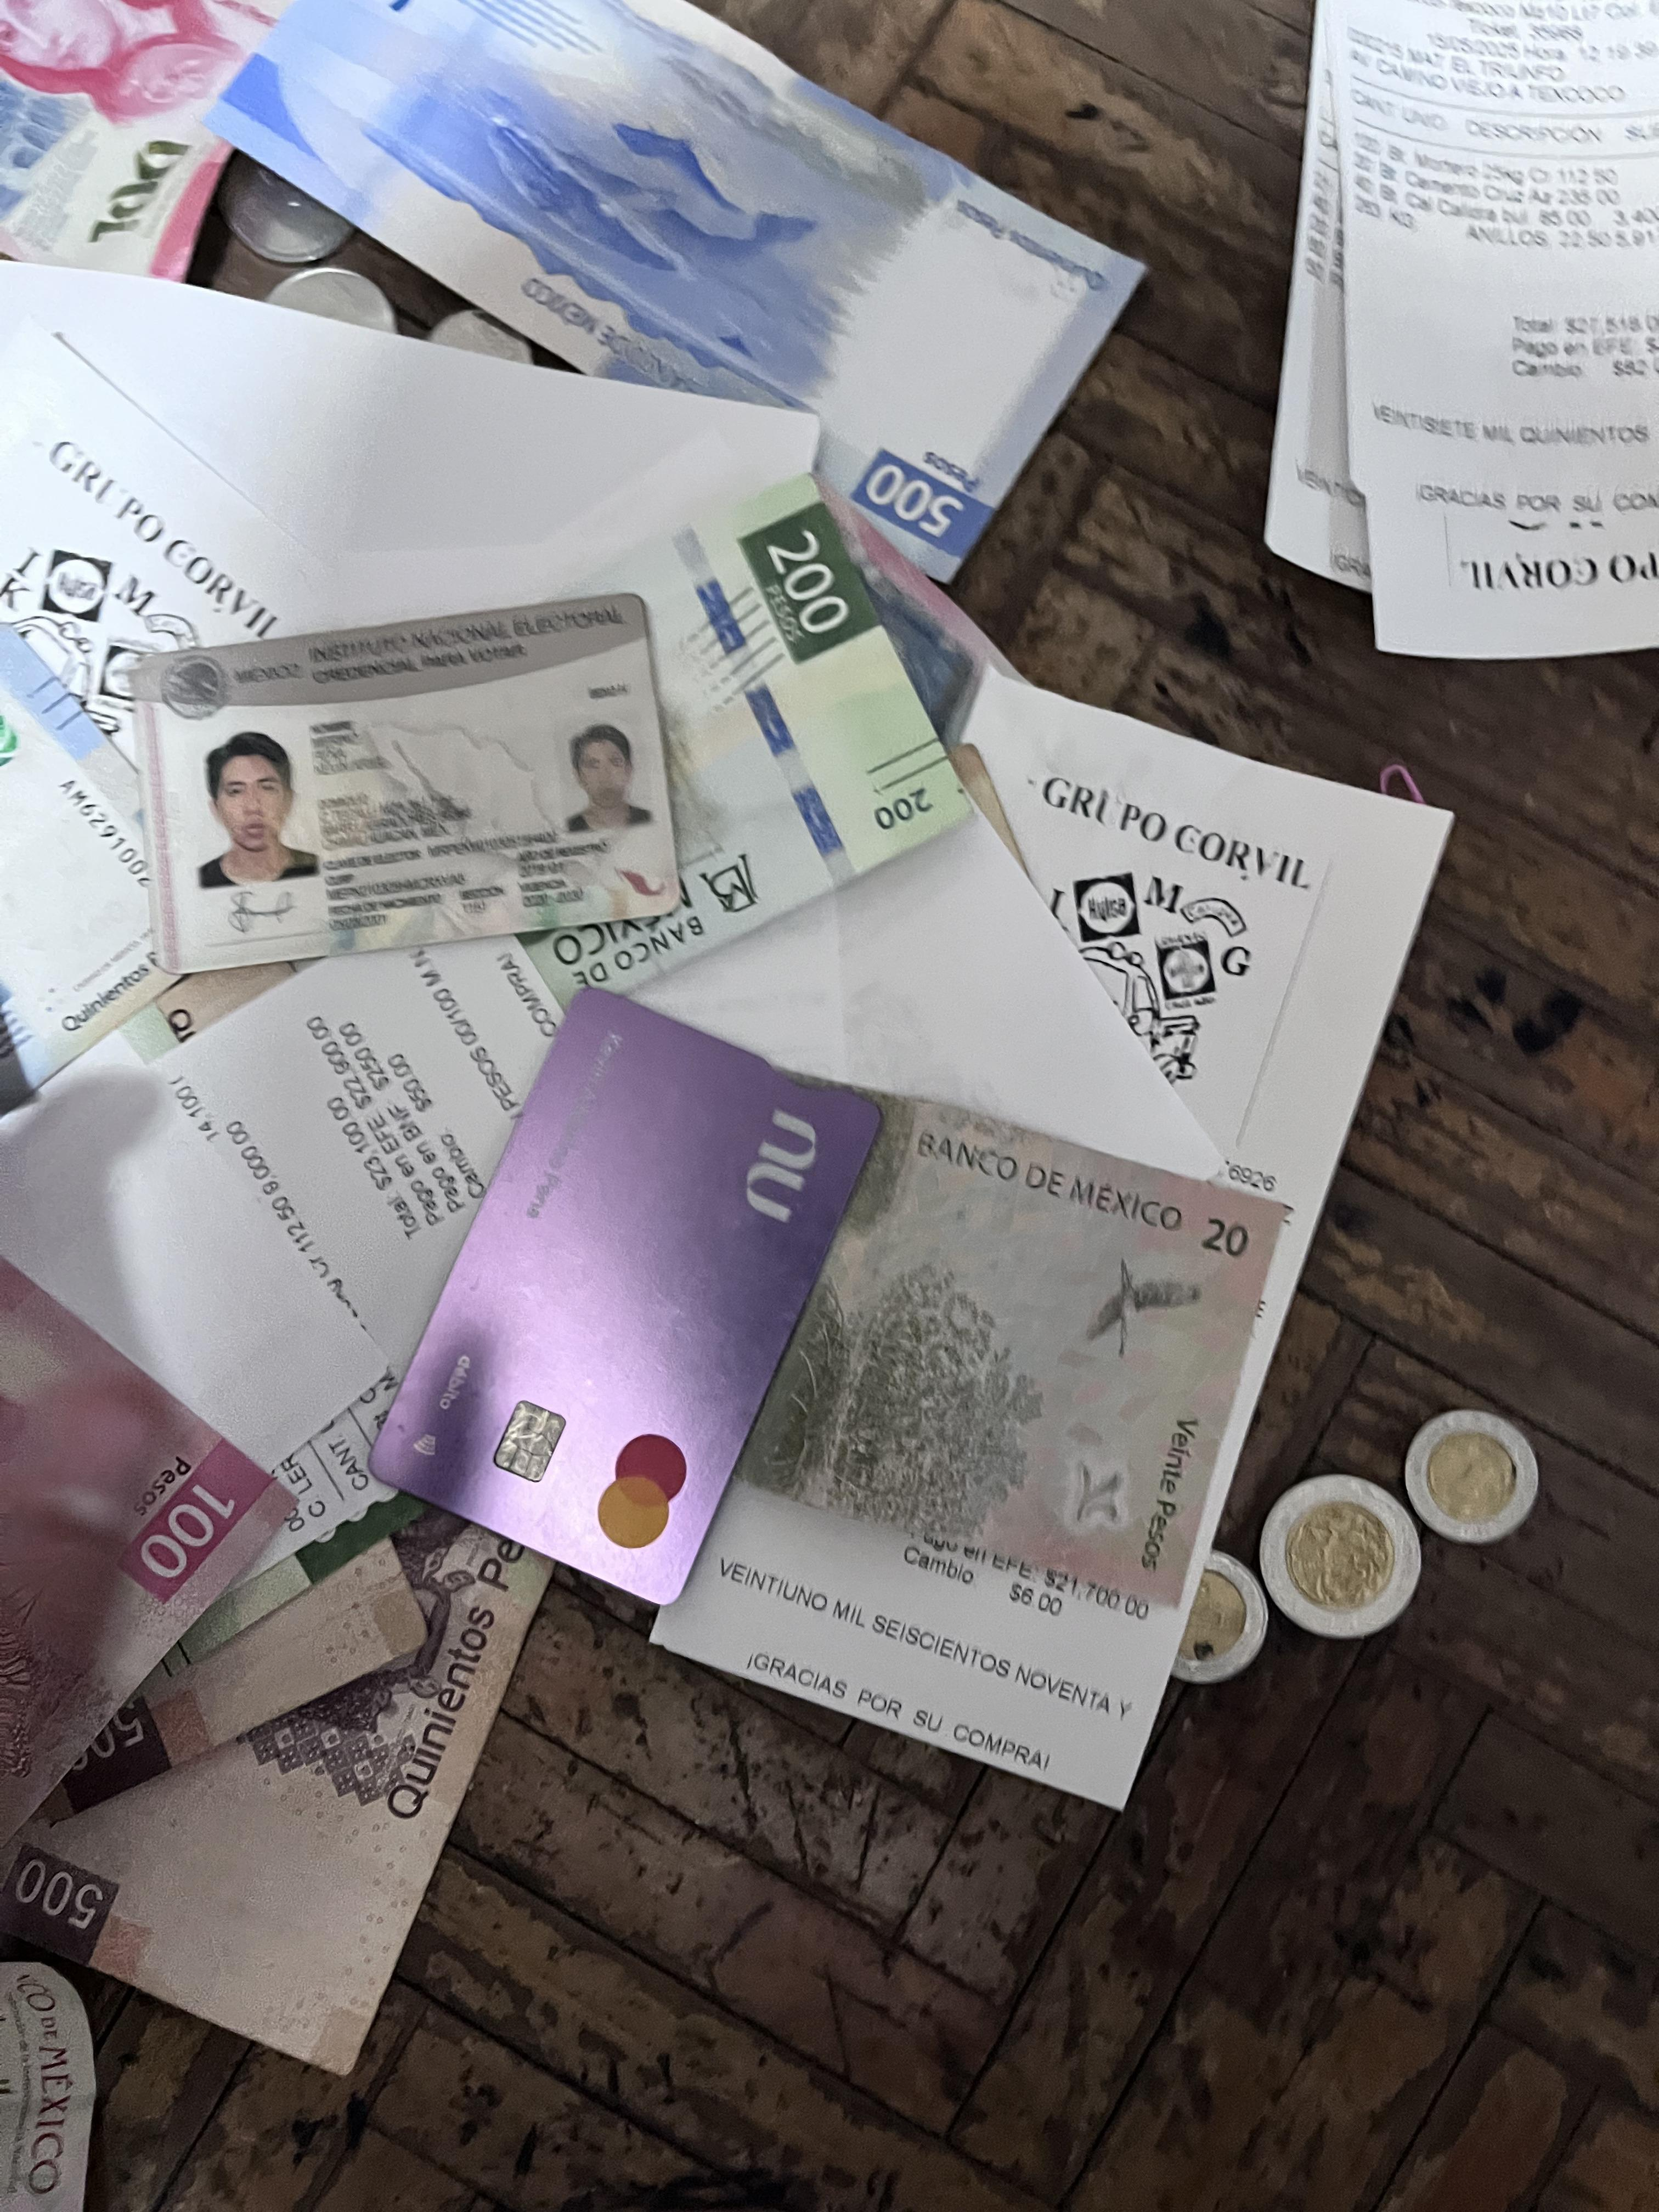100: (0, 1240, 298, 1869), (0, 0, 298, 312)
20: (694, 1036, 1307, 1618)
200: (476, 481, 976, 1001)
500: (0, 1491, 587, 2085)
500 nuevo: (188, 0, 1159, 590)
